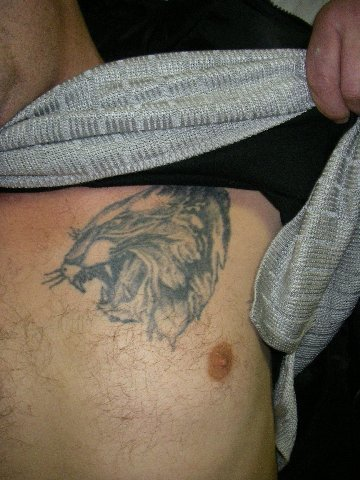tatu5_tigr: (39, 186, 236, 344)
